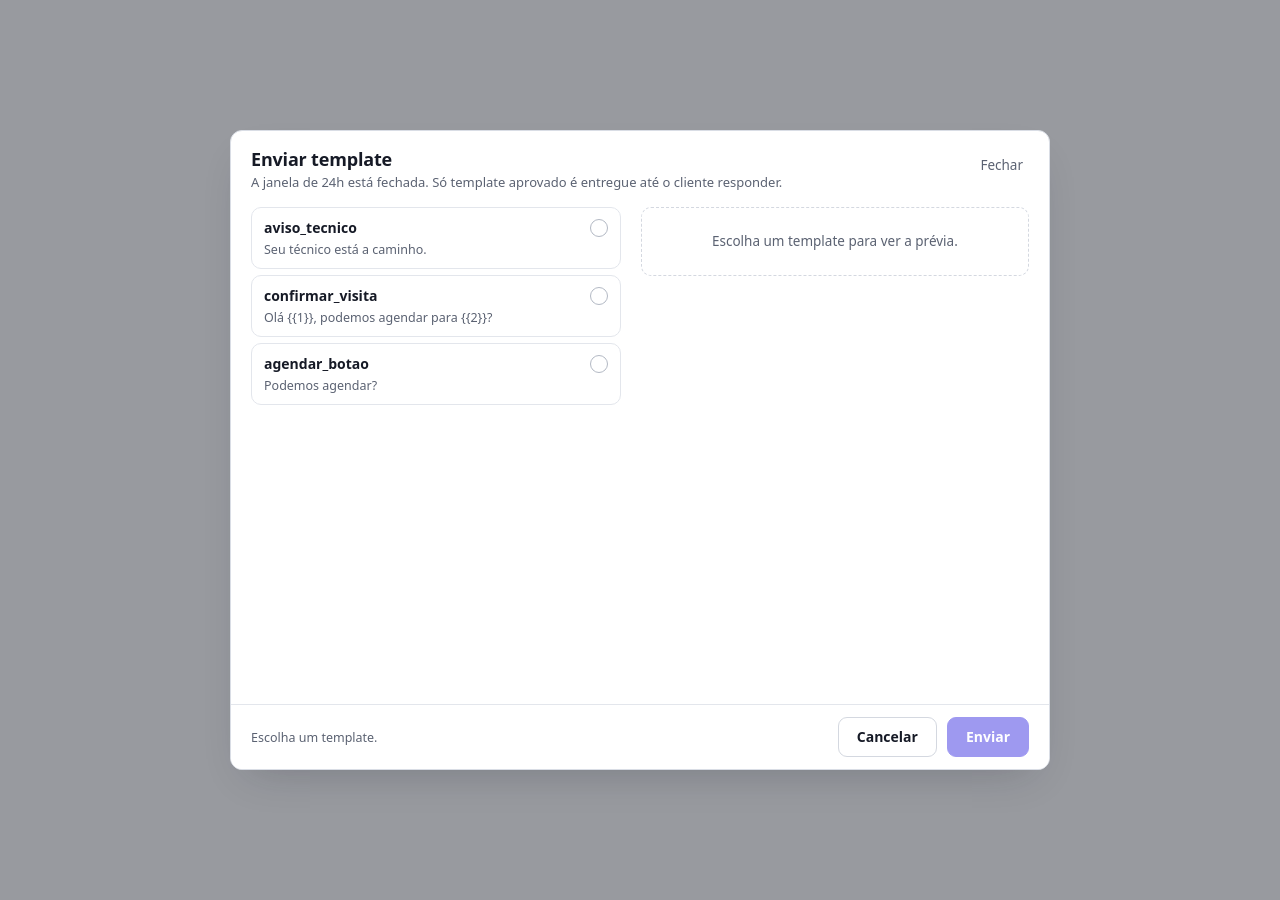
Test: SendTemplateModal › mostra o erro devolvido pela API
Step 1. Click the radio button labelled "aviso_tecnico Seu técnico está a caminho." → x=310, y=228, box [251,207,621,269]
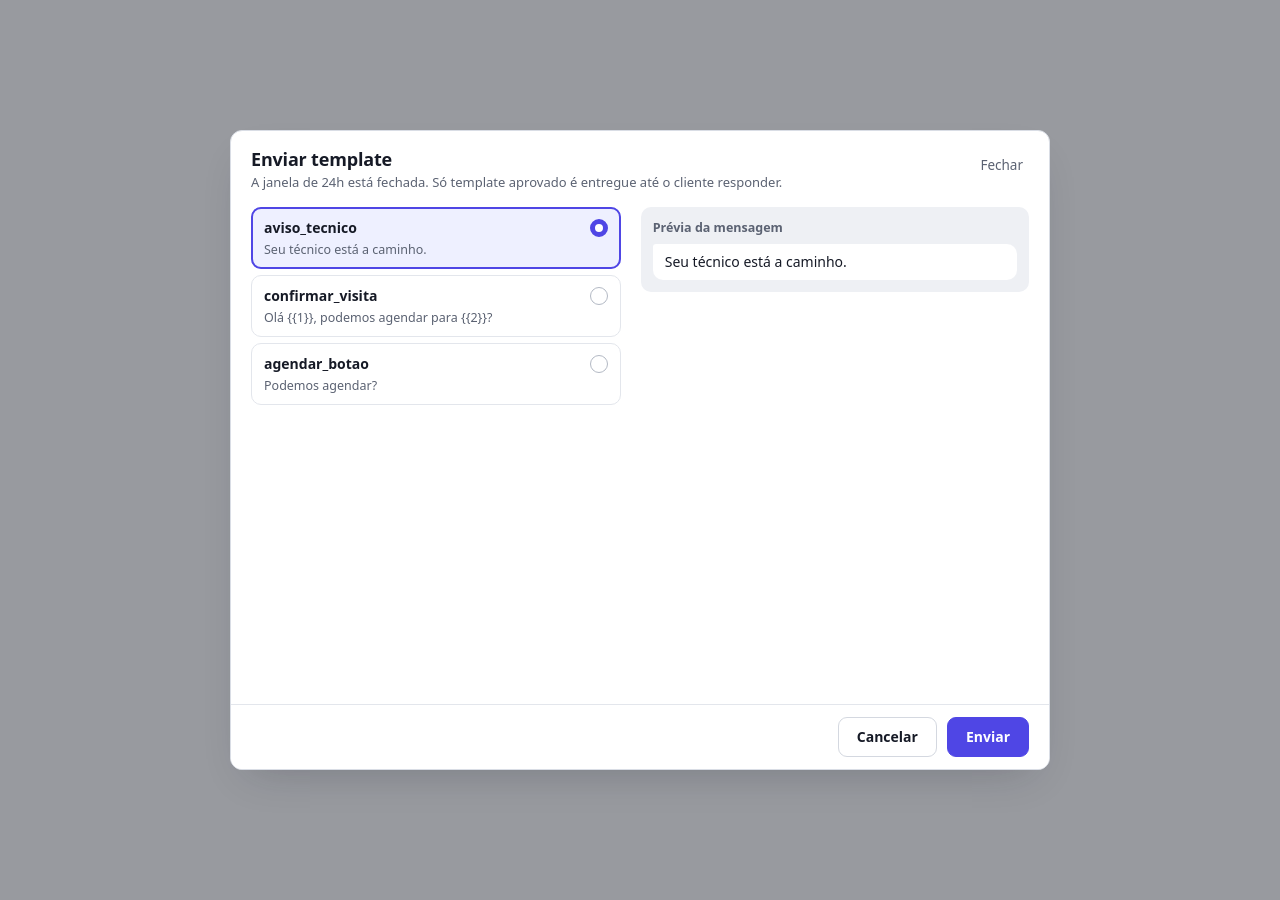
Step 2. Click the button "Enviar" → x=988, y=737, box [947,717,1029,757]
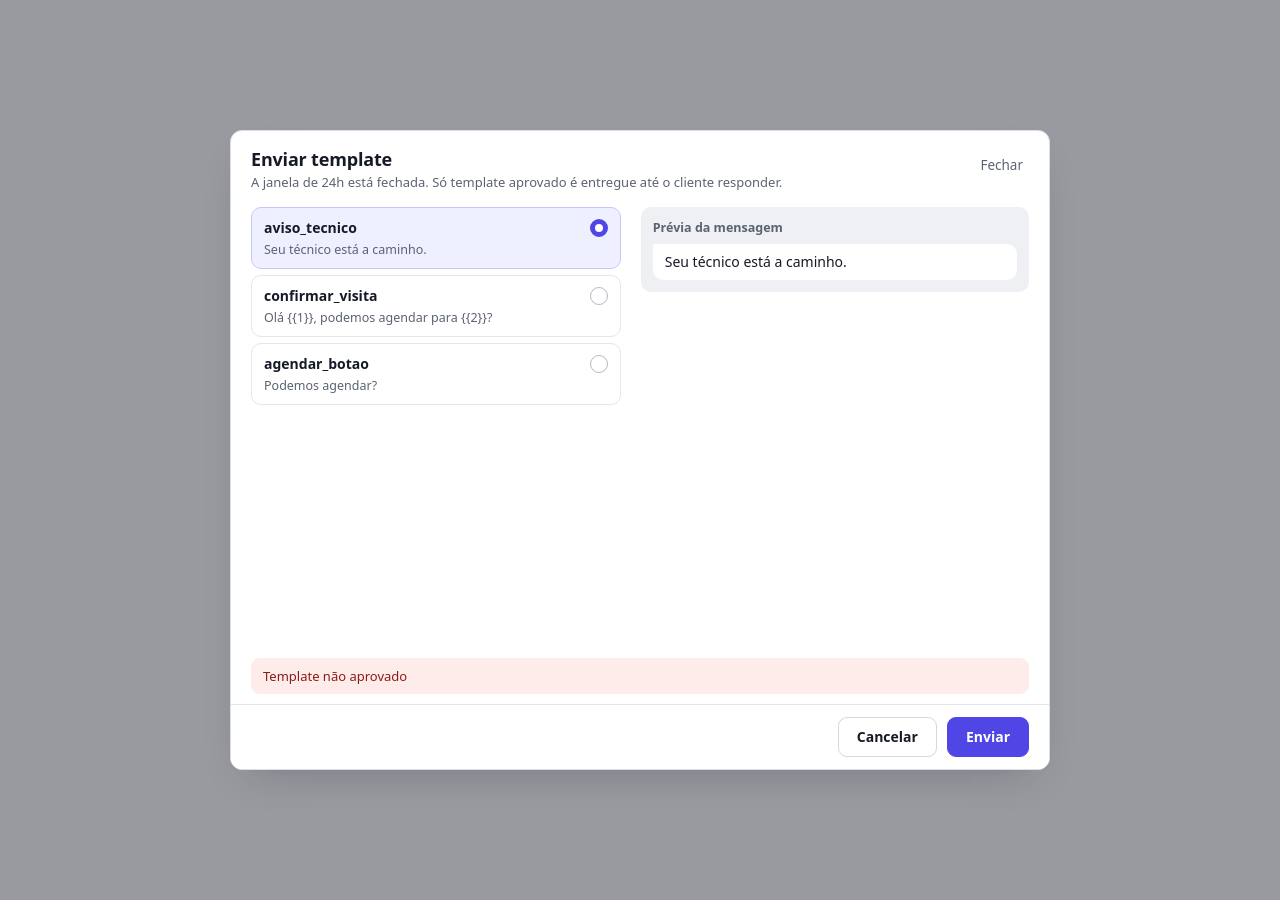
Expected: the text "Template não aprovado" is shown, [251,658,1029,694]
